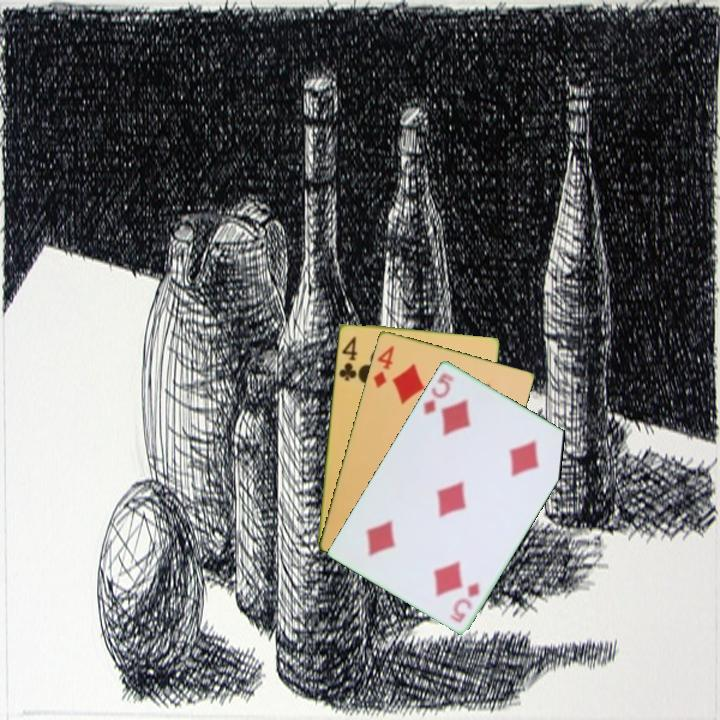4c: (335, 332, 360, 383)
4d: (370, 341, 397, 390)
5d: (419, 368, 457, 417), (446, 577, 482, 625)
